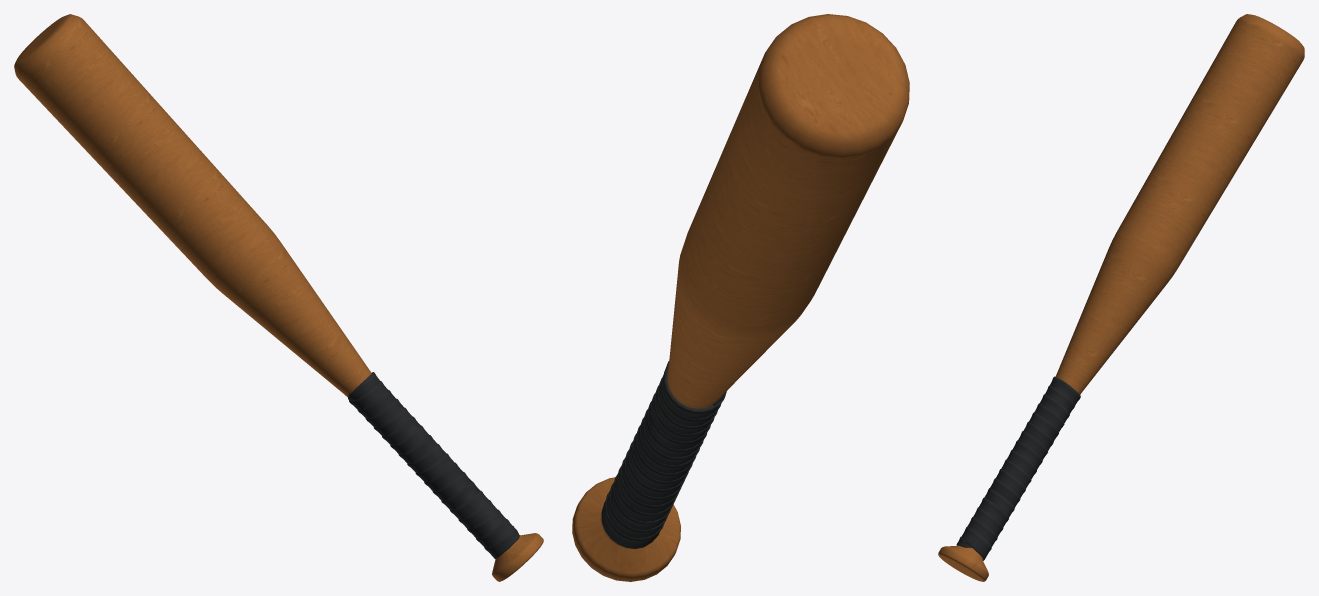
Rendered from Bate.obj.
3 views of the same model, side by side, from view 1: azimuth 30°, elevation 25°; view 2: azimuth 150°, elevation 25°; view 3: azimuth 270°, elevation 25° (orthographic). The views are drawn at different scales.
Visible parts, largest first — view 1: Baseball_Bat; view 2: Baseball_Bat; view 3: Baseball_Bat.
Part boxes in pixels (x1,y1,x2,y2): Baseball_Bat: [14, 14, 543, 581]; Baseball_Bat: [572, 14, 909, 581]; Baseball_Bat: [938, 14, 1304, 581].
Size of the model in its own units: 3.96 by 5.44 by 4.06.
